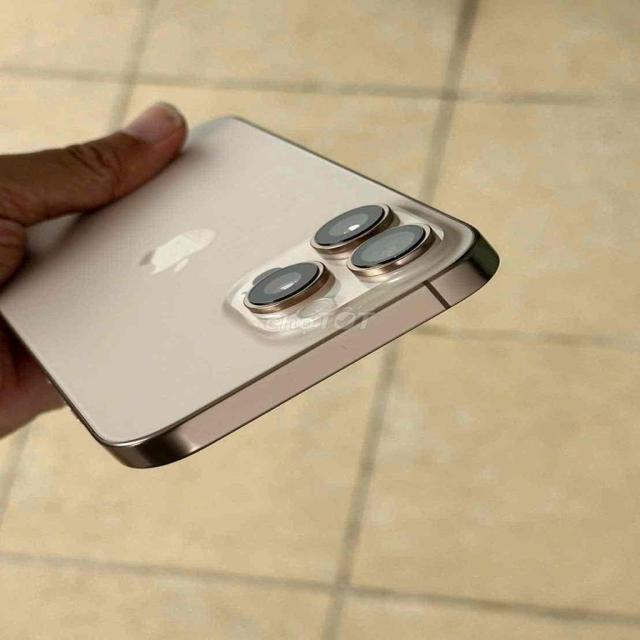gen_16: (0, 117, 498, 468)
